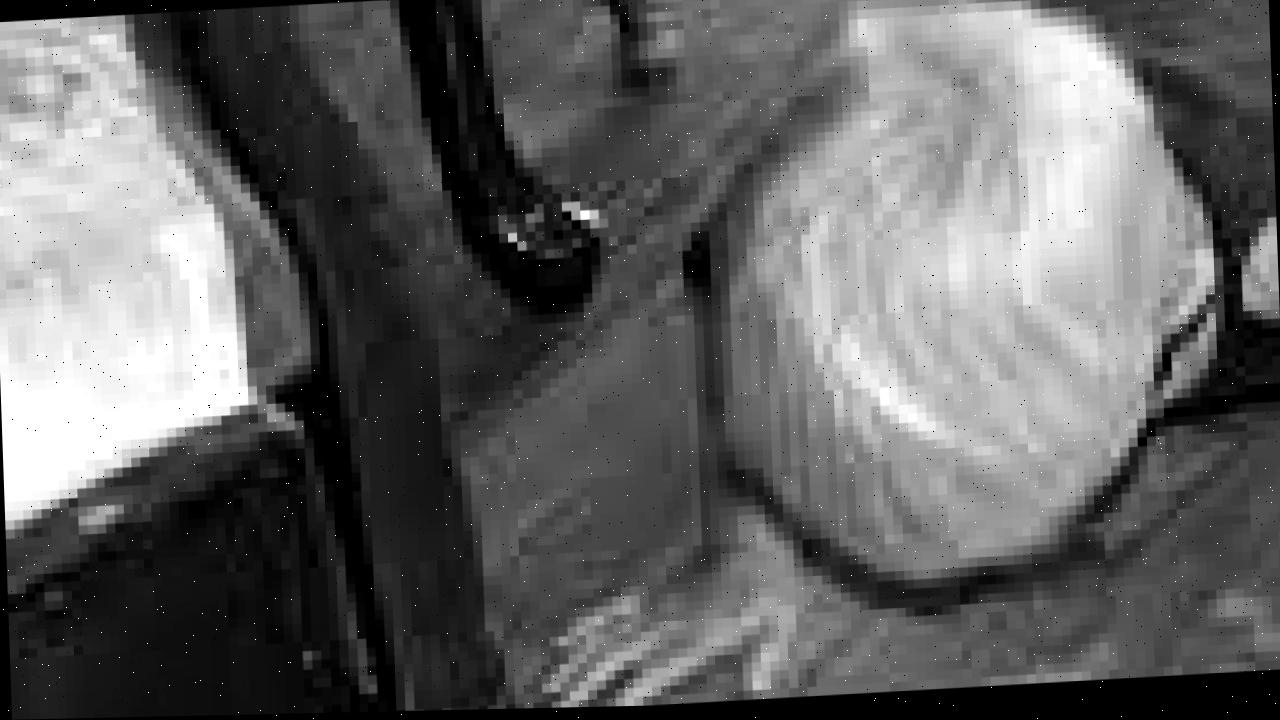drinks Stains: (667, 582, 1280, 707)
